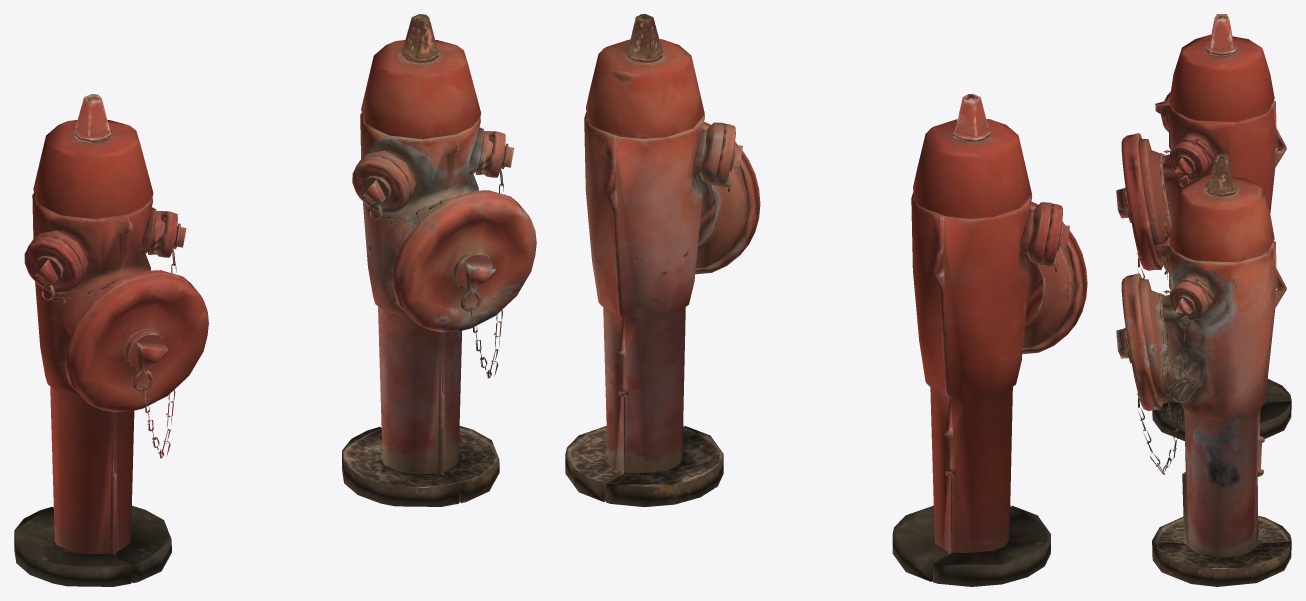
The model's file is fire_hydrant.glb.
3 views of the same model, side by side, from view 1: azimuth 30°, elevation 25°; view 2: azimuth 150°, elevation 25°; view 3: azimuth 270°, elevation 25° (orthographic). The views are drawn at different scales.
Parts seen in each view (by area): view 1: fire_hydrant, fire_hydrant_aged, fire_hydrant_cap_01, fire_hydrant_cap_01_aged, fire_hydrant_cap_03, fire_hydrant_cap_03_aged, fire_hydrant_chain, fire_hydrant_chain_aged, fire_hydrant_cap_02_aged, fire_hydrant_cap_02; view 2: fire_hydrant, fire_hydrant_aged, fire_hydrant_cap_01, fire_hydrant_cap_01_aged, fire_hydrant_cap_03, fire_hydrant_cap_03_aged; view 3: fire_hydrant_aged, fire_hydrant, fire_hydrant_cap_01_aged, fire_hydrant_cap_01, fire_hydrant_chain_aged, fire_hydrant_cap_02_aged, fire_hydrant_cap_02, fire_hydrant_chain.
Part boxes in pixels (x1,y1,x2,y2): fire_hydrant: (14,94,171,586); fire_hydrant_aged: (342,14,499,506); fire_hydrant_cap_01: (65,270,208,412); fire_hydrant_cap_01_aged: (393,190,536,332); fire_hydrant_cap_03: (24,235,83,293); fire_hydrant_cap_03_aged: (352,155,411,213); fire_hydrant_chain: (40,231,176,458); fire_hydrant_chain_aged: (368,148,504,378); fire_hydrant_cap_02_aged: (485,131,514,177); fire_hydrant_cap_02: (157,211,186,257); fire_hydrant: (892,94,1075,586); fire_hydrant_aged: (565,14,748,506); fire_hydrant_cap_01: (1022,201,1087,353); fire_hydrant_cap_01_aged: (695,122,760,274); fire_hydrant_cap_03: (1040,203,1070,266); fire_hydrant_cap_03_aged: (713,123,742,186); fire_hydrant_aged: (1139,154,1291,586); fire_hydrant: (1139,14,1291,440); fire_hydrant_cap_01_aged: (1116,273,1162,410); fire_hydrant_cap_01: (1116,133,1162,270); fire_hydrant_chain_aged: (1137,290,1196,474); fire_hydrant_cap_02_aged: (1169,281,1208,320); fire_hydrant_cap_02: (1169,141,1208,179); fire_hydrant_chain: (1136,150,1189,279).
Size of the model in its own units: 0.8745 by 0.7992 by 0.3173.
2 materials, 2 textured.
